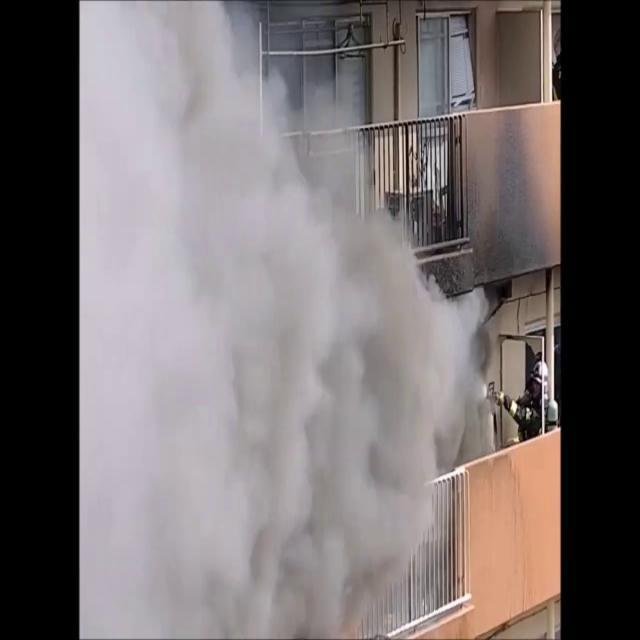Smoke: (80, 2, 492, 636)
